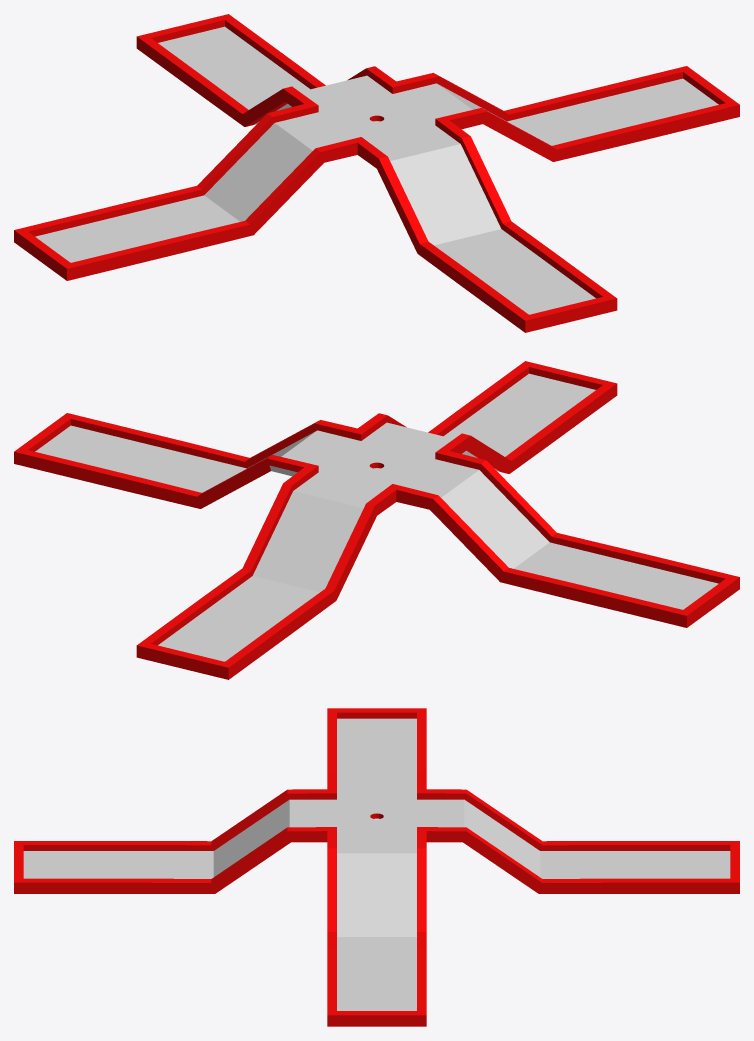
File: BahnM12.fbx
3 views of the same model, one above another, from view 1: azimuth 30°, elevation 25°; view 2: azimuth 150°, elevation 25°; view 3: azimuth 270°, elevation 25° (orthographic). The views are drawn at different scales.
Parts seen in each view (by area): view 1: Track12; view 2: Track12; view 3: Track12.
Part boxes in pixels (x1=…): Track12: x1=14, y1=14, x2=739, y2=332; Track12: x1=14, y1=361, x2=739, y2=679; Track12: x1=14, y1=708, x2=739, y2=1026.
Bounding box in the file's own units: 637 × 61 × 637.
